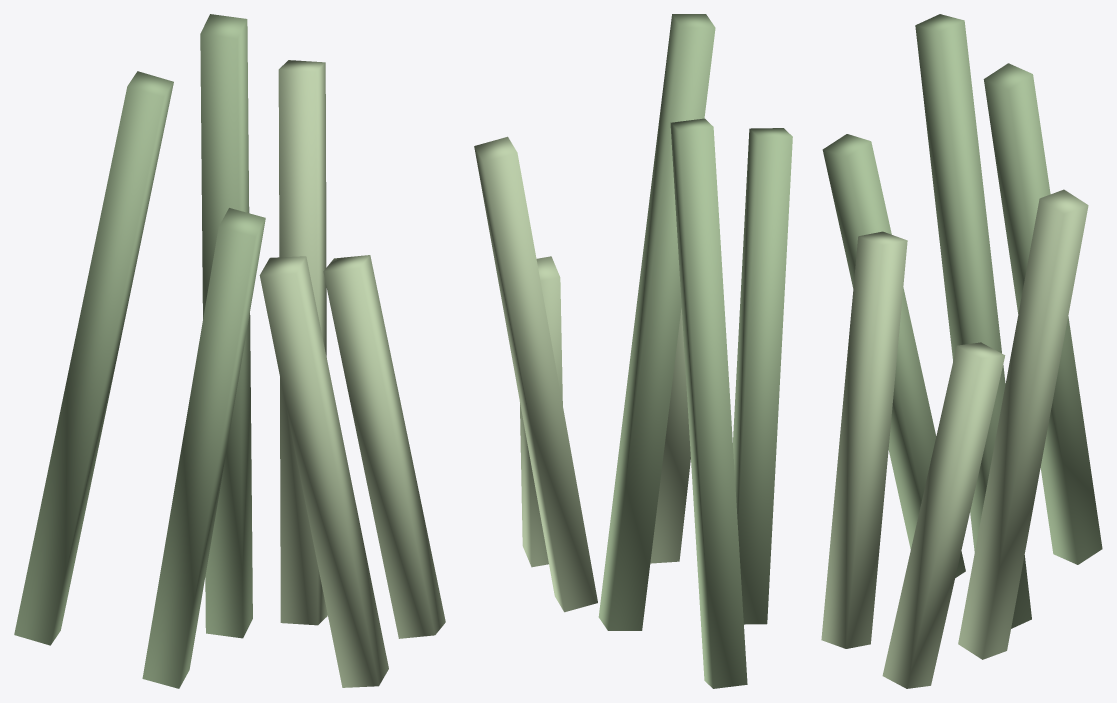
The model's file is reed.glb.
The picture shows the model from 3 angles, left to right: view 1: azimuth 30°, elevation 25°; view 2: azimuth 150°, elevation 25°; view 3: azimuth 270°, elevation 25°; orthographic projection. The views are drawn at different scales.
Parts seen in each view (by area): view 1: reed_reed, reed_reed-light; view 2: reed_reed, reed_reed-light; view 3: reed_reed-light, reed_reed.
Boxes of the visible parts, x1=… form: reed_reed: x1=14, y1=14, x2=265, y2=688; reed_reed-light: x1=259, y1=60, x2=445, y2=687; reed_reed: x1=598, y1=14, x2=792, y2=688; reed_reed-light: x1=474, y1=136, x2=690, y2=612; reed_reed-light: x1=821, y1=189, x2=1088, y2=688; reed_reed: x1=822, y1=14, x2=1102, y2=628.
Size of the model in its own units: 0.2385 by 0.4337 by 0.1889.
